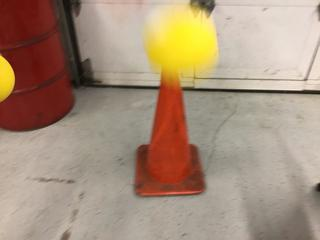power_cell: (146, 7, 221, 81), (1, 50, 18, 103)
